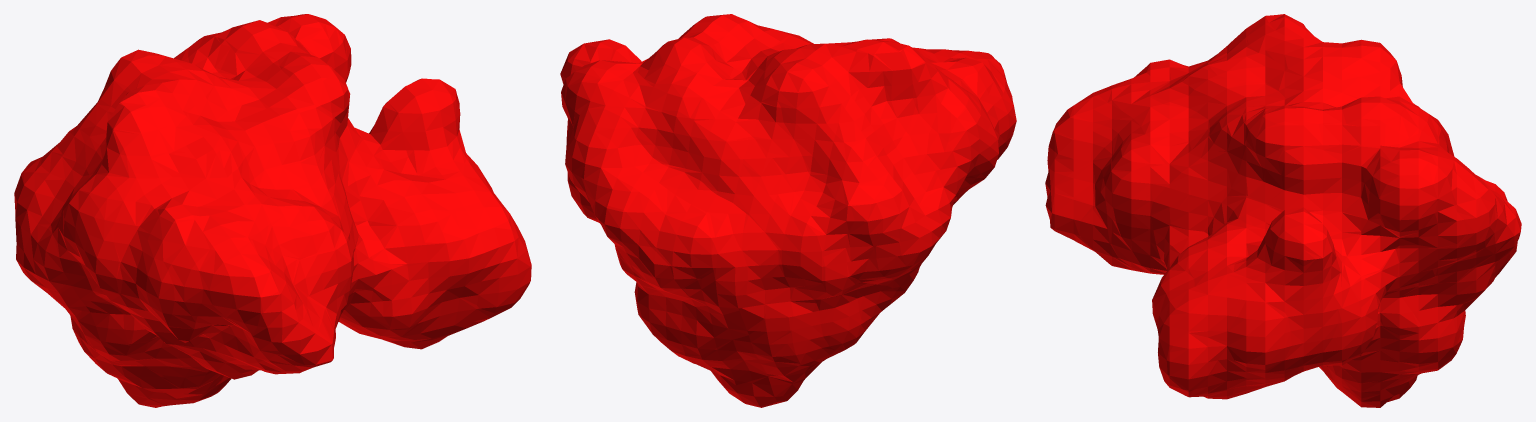
The model's file is fadD_coarse.dae.
The picture shows the model from 3 angles, left to right: view 1: azimuth 30°, elevation 25°; view 2: azimuth 150°, elevation 25°; view 3: azimuth 270°, elevation 25°; orthographic projection. The views are drawn at different scales.
Parts seen in each view (by area): view 1: fadD; view 2: fadD; view 3: fadD.
Boxes of the visible parts, <box> form: fadD: <box>14,14,531,407</box>; fadD: <box>560,14,1016,407</box>; fadD: <box>1045,14,1521,407</box>.
Bounding box in the file's own units: 72.97 × 60.12 × 75.38.
